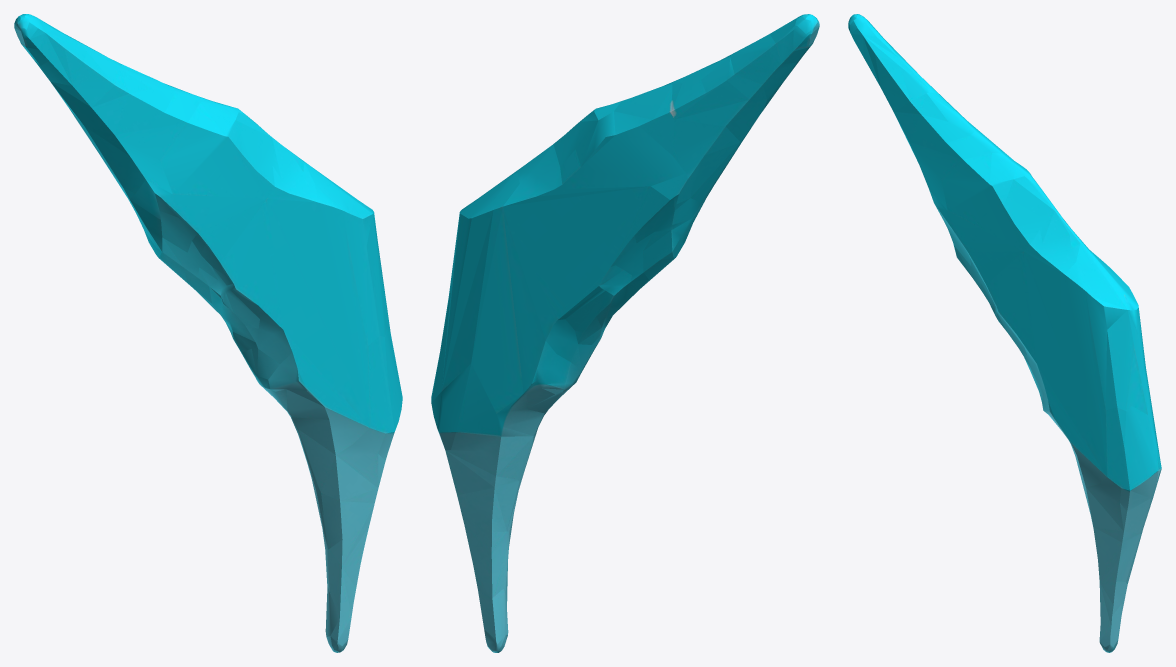
File: icicle-single.glb
The picture shows the model from 3 angles, left to right: view 1: azimuth 30°, elevation 25°; view 2: azimuth 150°, elevation 25°; view 3: azimuth 330°, elevation 25°; orthographic projection. The views are drawn at different scales.
Size of the model in its own units: 1.07 by 1.9 by 0.1724.
Materials: 1 (1 with a texture image).
